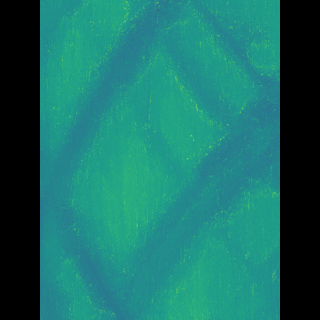Loch: (83, 0, 182, 183), (180, 0, 250, 219), (76, 195, 148, 319)
